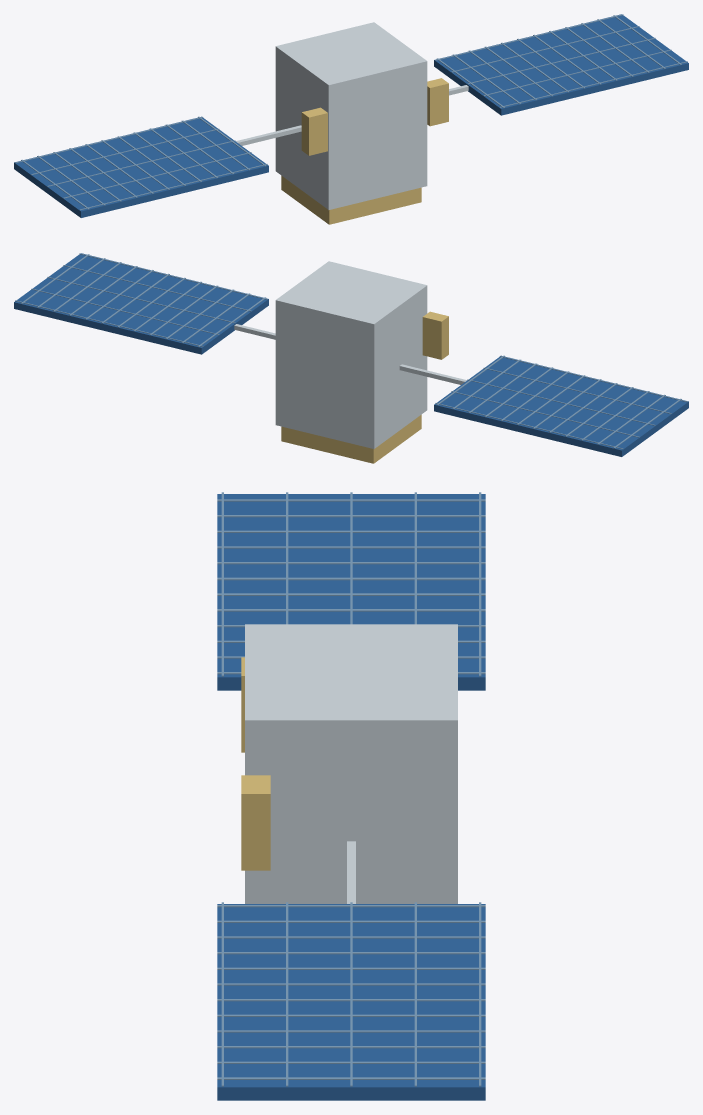
The model's file is iridium-illustrative.gltf.
3 views of the same model, one above another, from view 1: azimuth 30°, elevation 25°; view 2: azimuth 150°, elevation 25°; view 3: azimuth 270°, elevation 25° (orthographic). The views are drawn at different scales.
Size of the model in its own units: 3.82 by 0.855 by 0.73.
